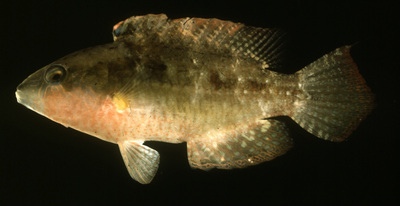fish: (15, 13, 371, 185)
